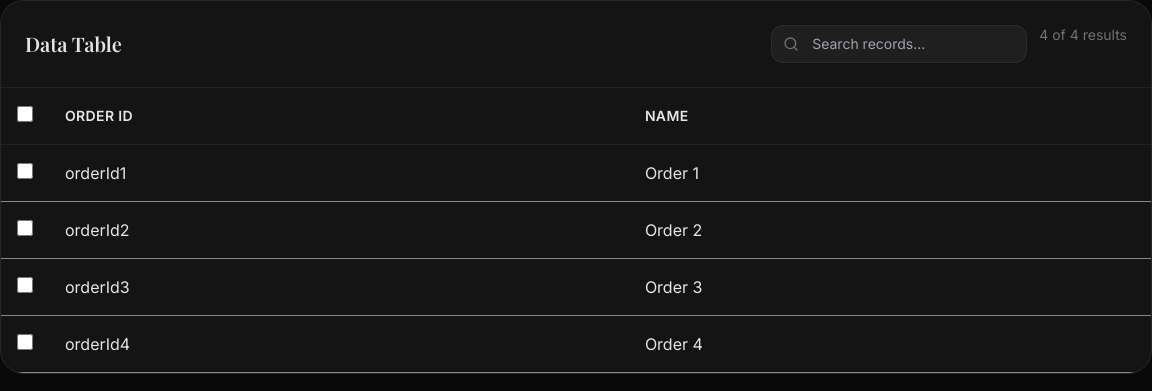
DataTable selection behavior › header select-all selects all visible rows and deselects them on second click
Click the checkbox next to "Order ID" at (25, 114), box 17,106 -> 33,122
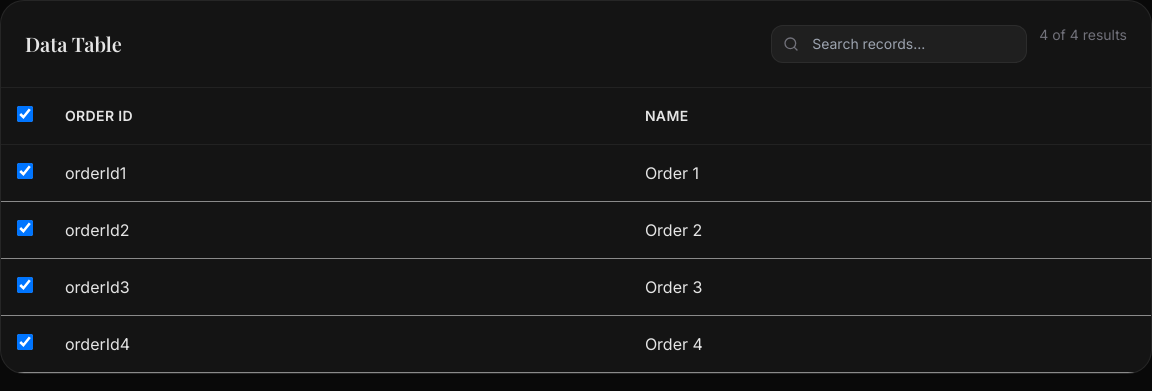
Expected: the checkbox next to "orderId1" is checked, 17,163 -> 33,179
Expected: the checkbox next to "orderId2" is checked, 17,220 -> 33,236
Expected: the checkbox next to "orderId3" is checked, 17,277 -> 33,293
Click the checkbox next to "Order ID" at (25, 114), box 17,106 -> 33,122
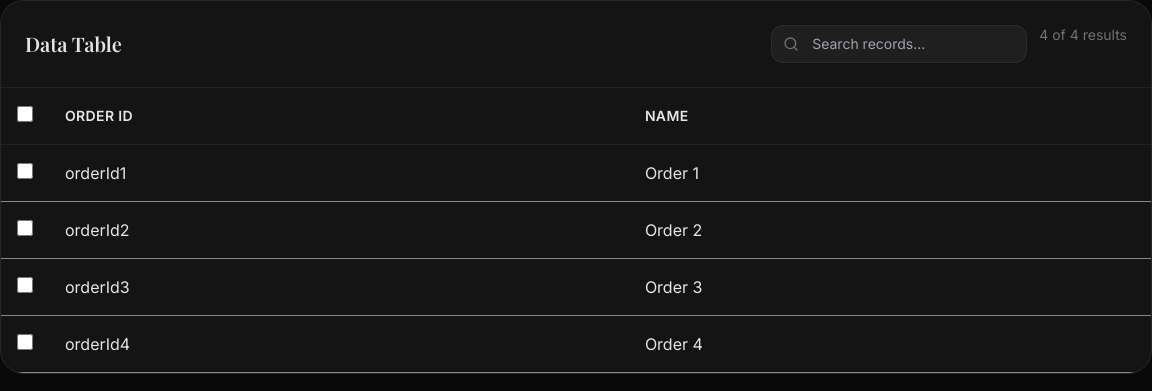
Expected: the checkbox next to "orderId1" is not checked, 17,163 -> 33,179
Expected: the checkbox next to "orderId2" is not checked, 17,220 -> 33,236
Expected: the checkbox next to "orderId3" is not checked, 17,277 -> 33,293
